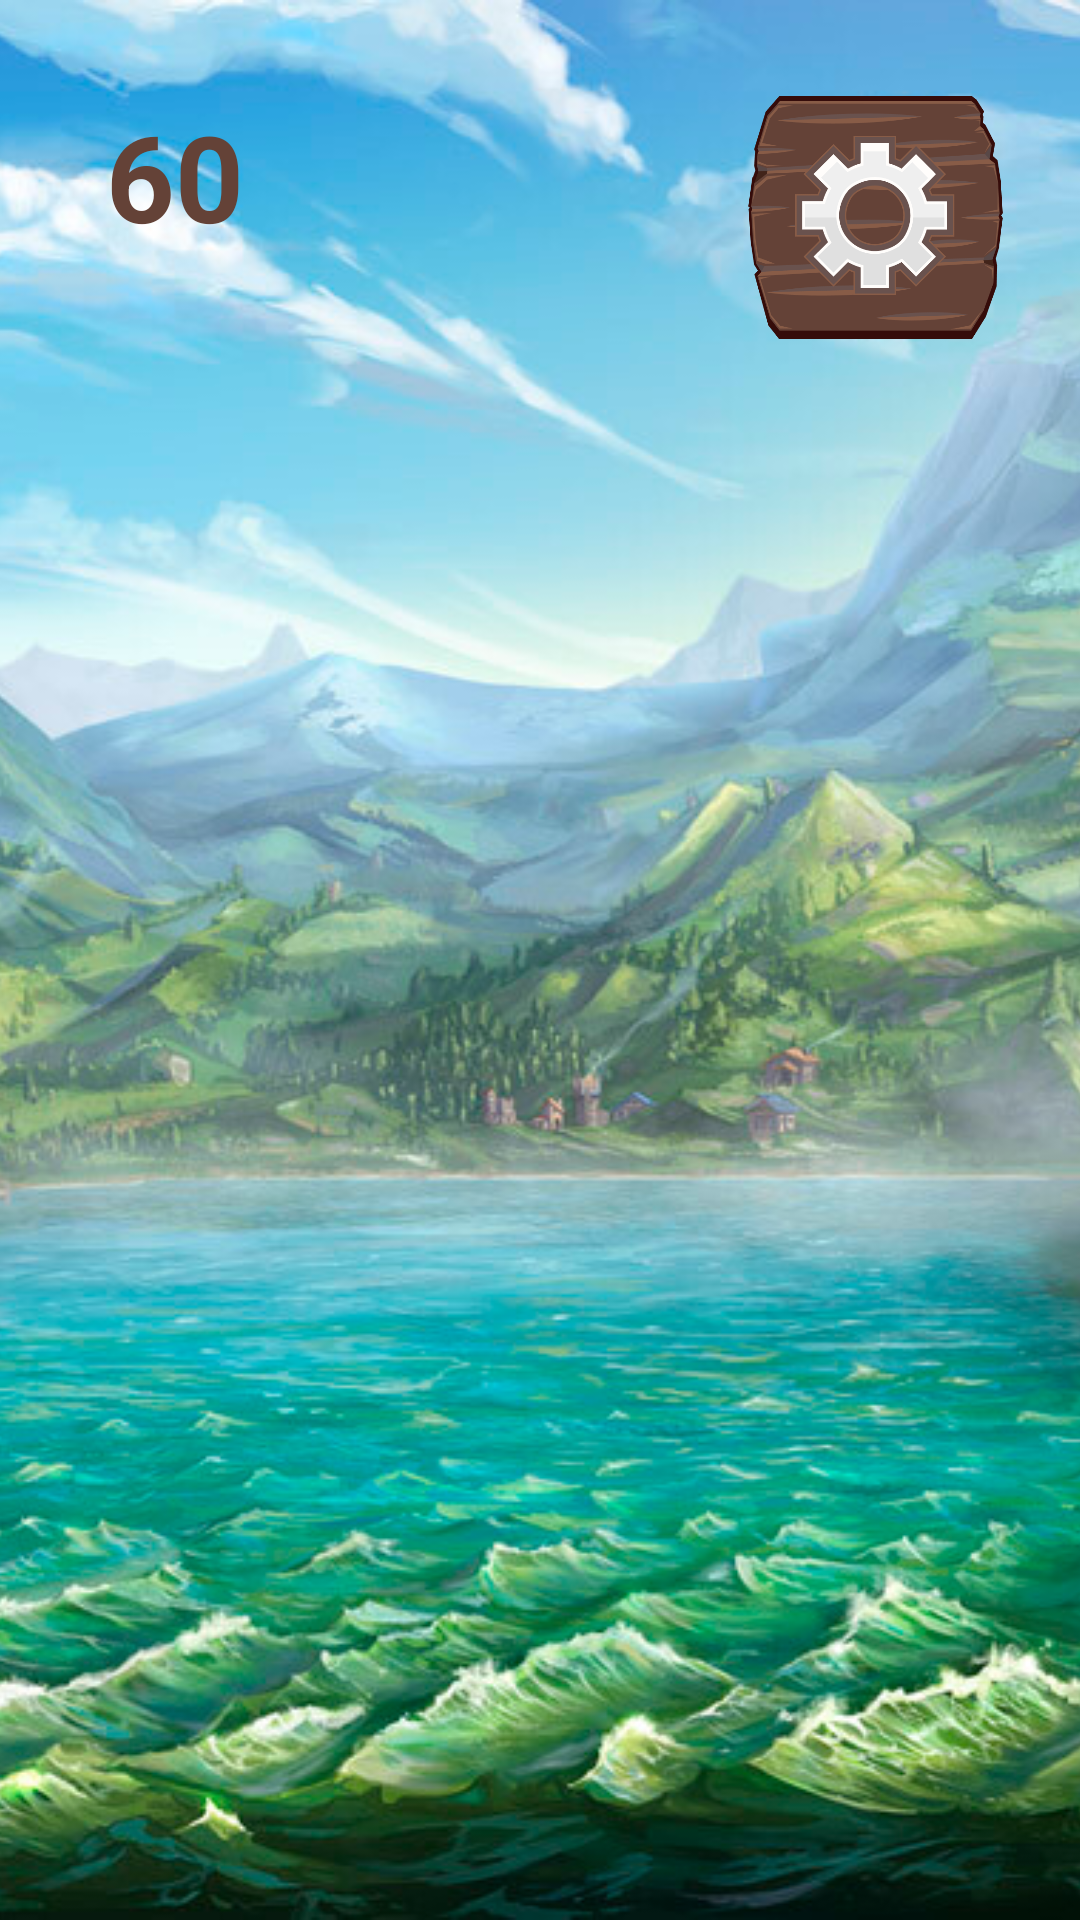

Screen size 1080px x 1920px. Icon name, then its center in pixels as [x,y]:
seting: [875,217]
